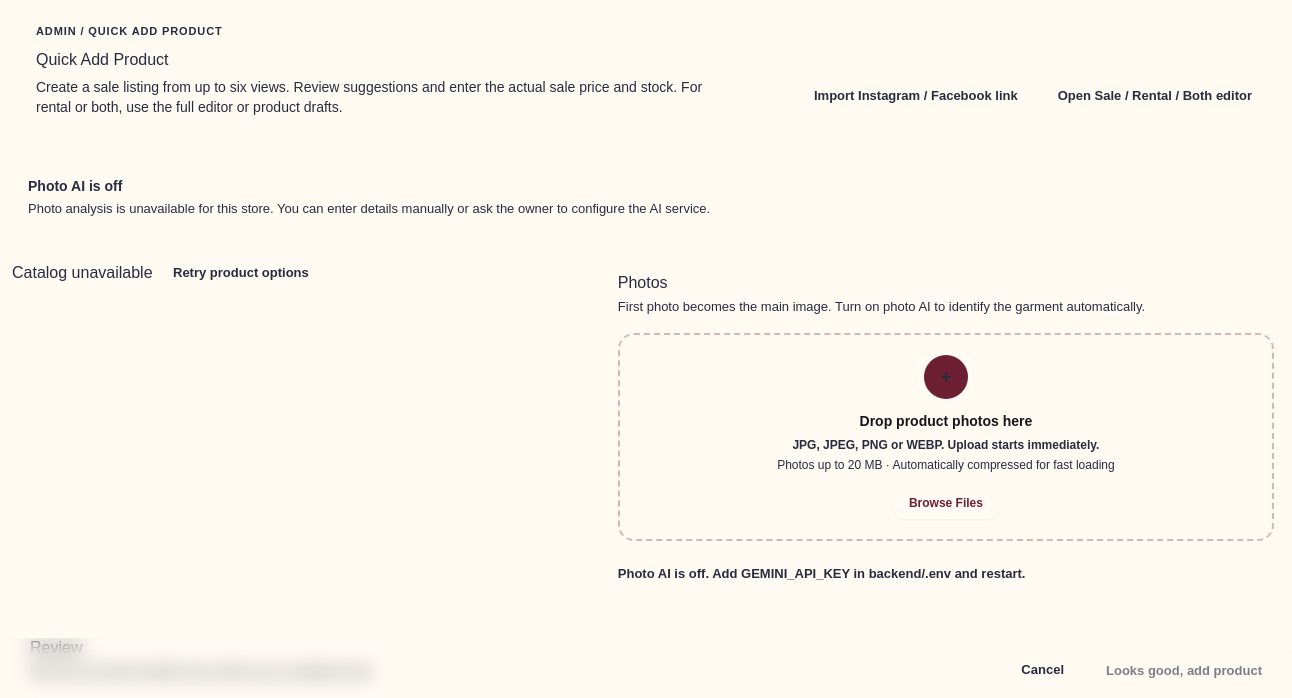
Scenario: configuration failures disable creation until a successful retry
The image size is (1292, 698).
Expected: the message "Catalog unavailable Retry product options" is shown, 12,253 -> 325,295
Expected: the button "Looks good, add product" is disabled, 1088,650 -> 1280,692
Click the button "Retry product options" at (241, 274), box 157,253 -> 325,295
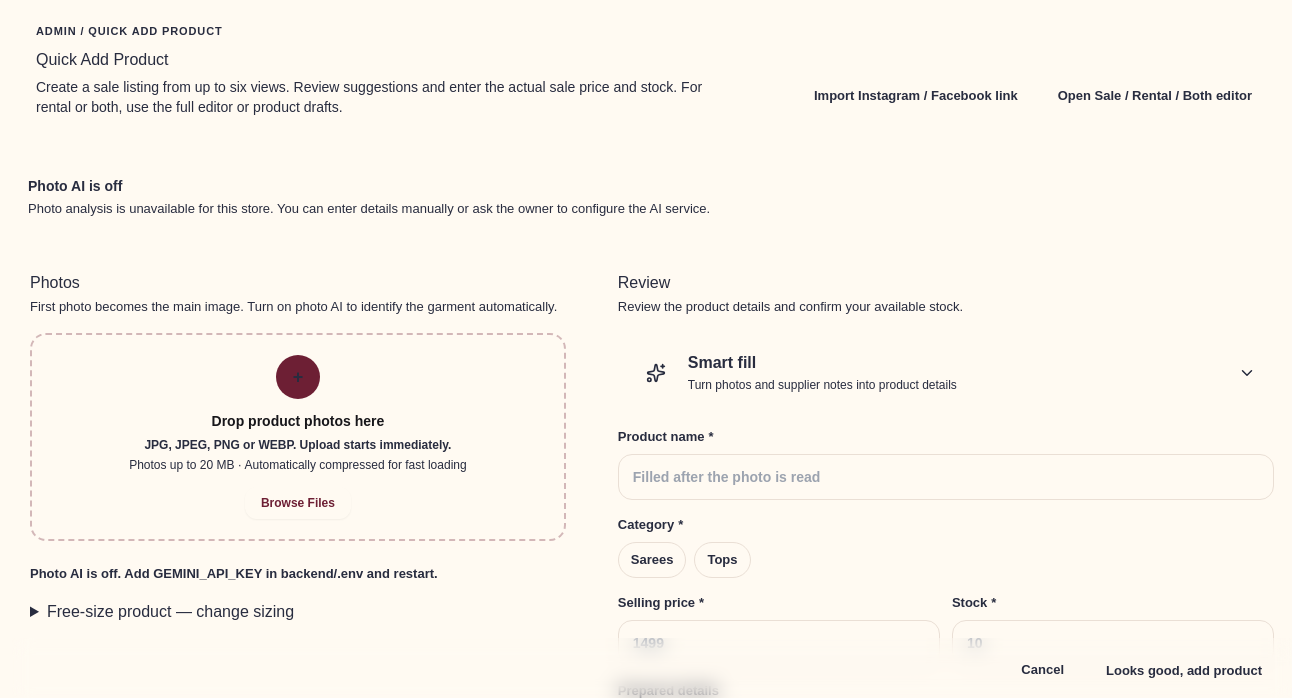
Result: the button "Looks good, add product" is enabled at 1088,650 -> 1280,692
